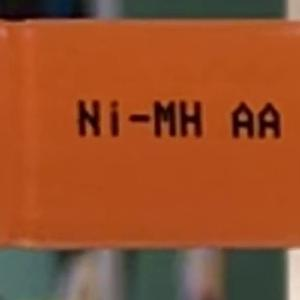keyword: (68, 91, 212, 146)
